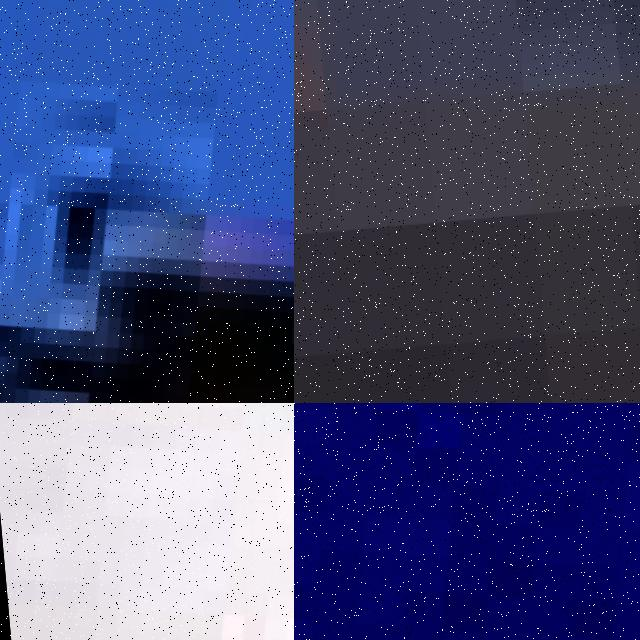drone: (0, 0, 294, 403), (294, 403, 640, 640), (0, 403, 294, 640)
